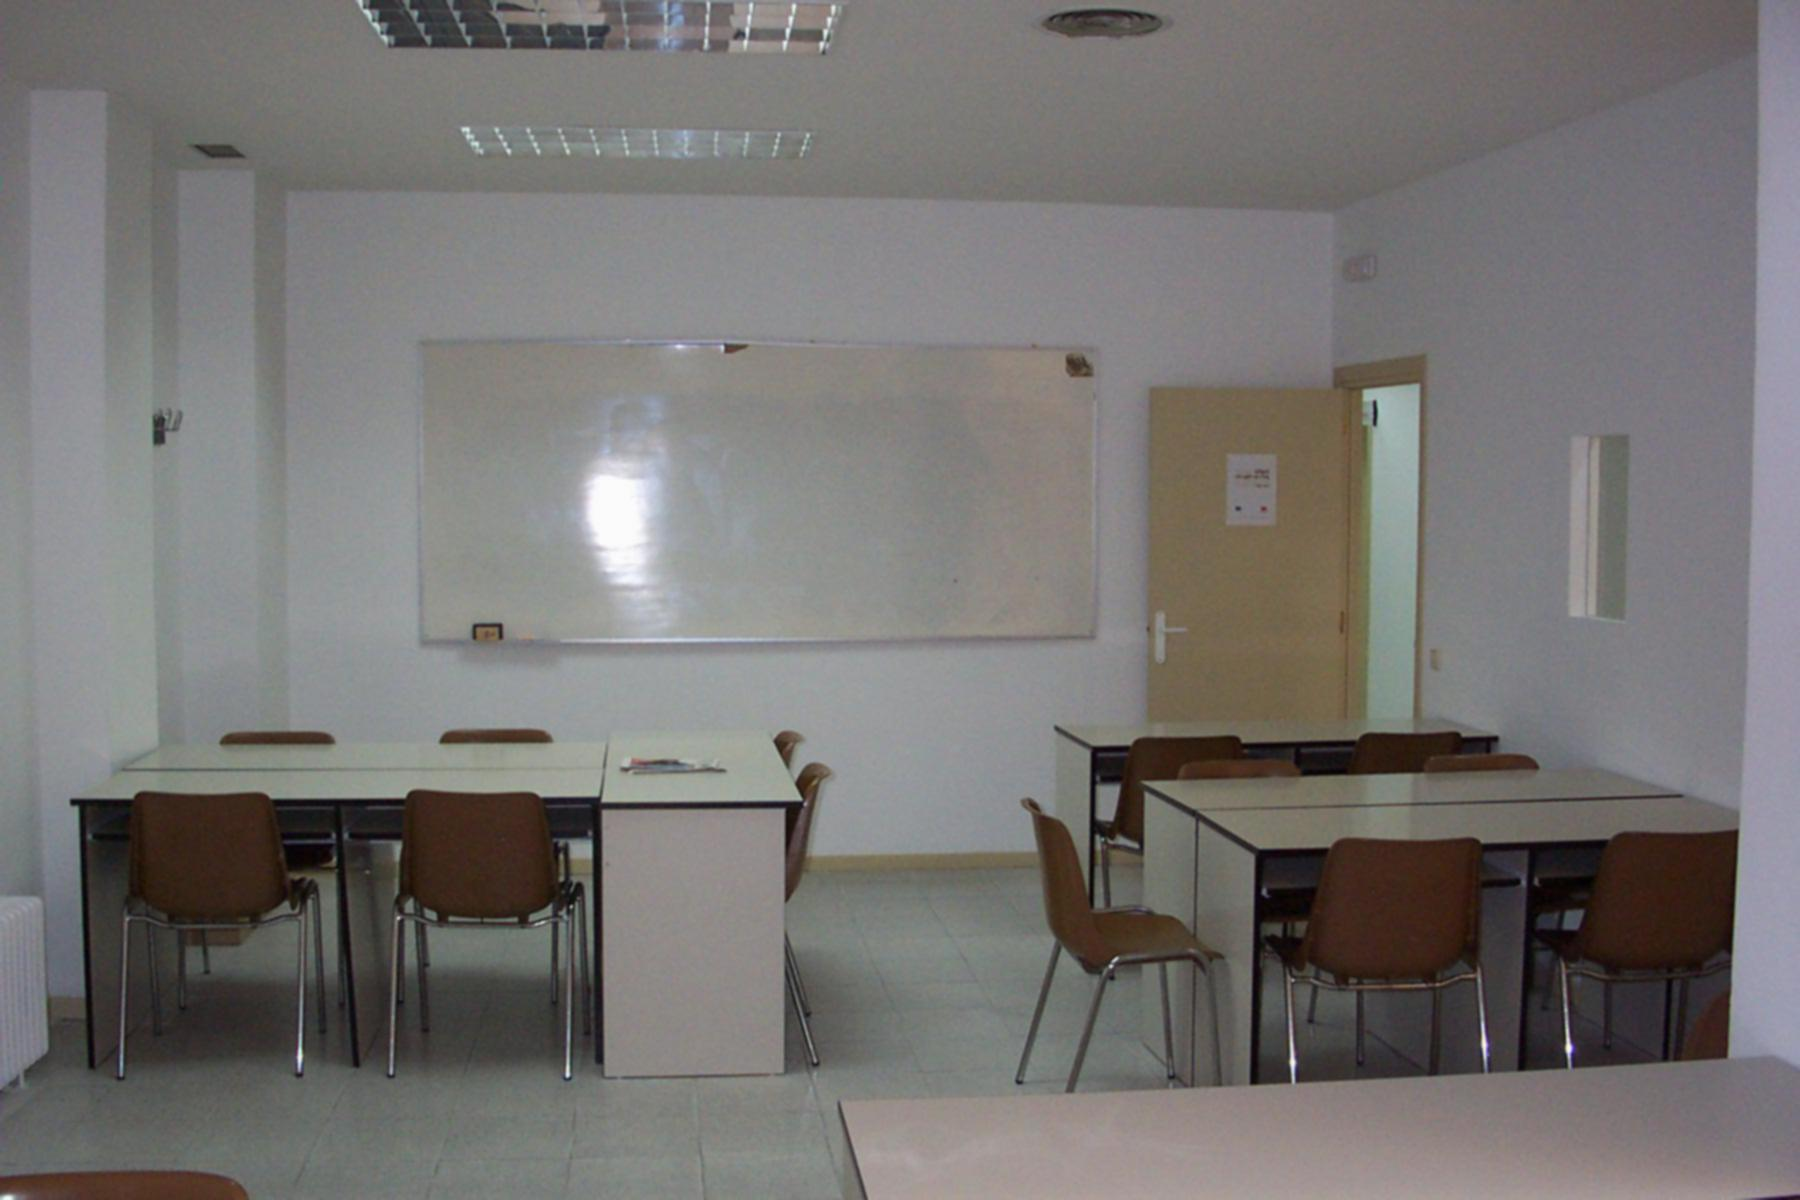Puerta: (1142, 383, 1351, 708)
